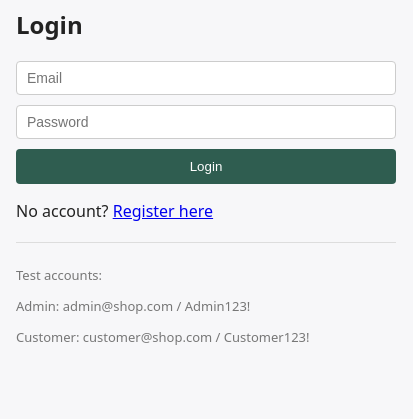
Test: Login page › shows an error message on invalid login
Type "wrong@shop.com" into the field with placeholder "Email" at (206, 78), box [16,61,396,95]
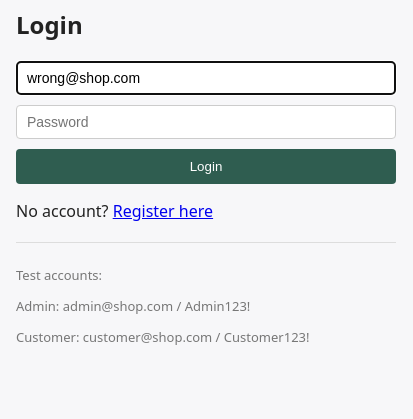
Type "wrongpass" into the password field with placeholder "Password" at (206, 122), box [16,105,396,139]
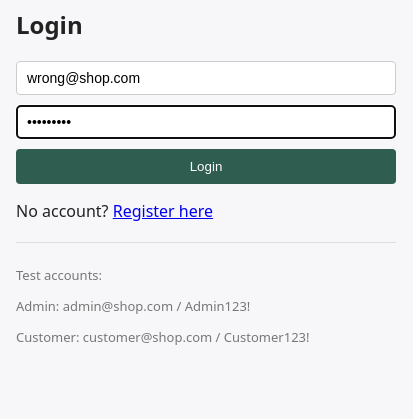
Click the button "Login" at (206, 166), box [16,149,396,184]
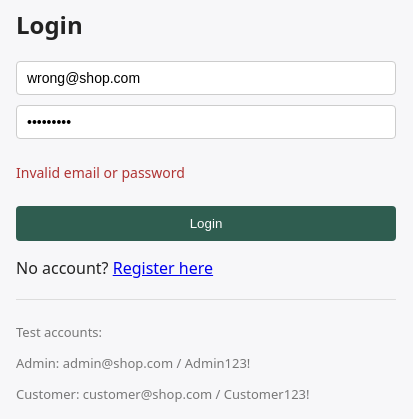
Now the text "Invalid email or password" is shown, box [16,163,185,182]
